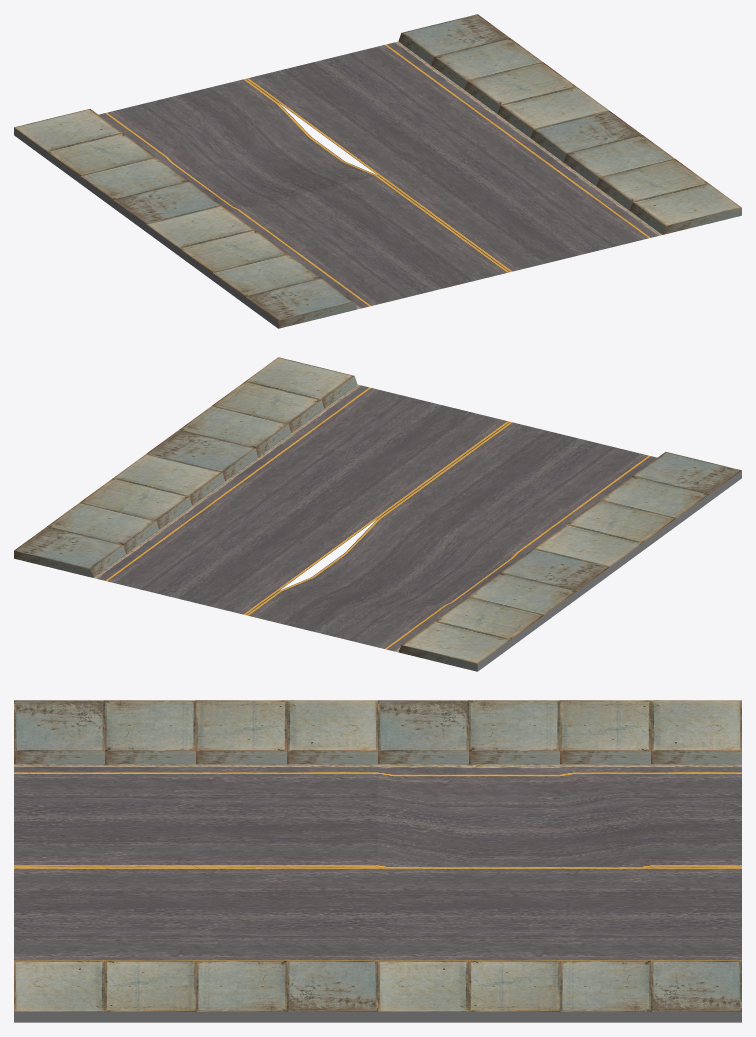
File: hole.FBX
3 renders of one model, top to bottom at view 1: azimuth 30°, elevation 25°; view 2: azimuth 150°, elevation 25°; view 3: azimuth 270°, elevation 25°, orthographic. The views are drawn at different scales.
Visible parts, largest first — view 1: Plane003, Plane002, Plane004, Plane001; view 2: Plane002, Plane003, Plane004, Plane001; view 3: Plane001, Plane004, Plane002, Plane003.
Part boxes in pixels (box(x1,y1,x2,y2)): Plane003: box(378, 111, 741, 271); Plane002: box(246, 14, 609, 175); Plane004: box(146, 175, 509, 328); Plane001: box(14, 79, 377, 231); Plane002: box(14, 454, 377, 614); Plane003: box(146, 357, 509, 518); Plane004: box(378, 422, 741, 574); Plane001: box(246, 518, 609, 671); Plane001: box(378, 700, 741, 866); Plane004: box(14, 700, 377, 866); Plane002: box(378, 867, 741, 1022); Plane003: box(14, 867, 377, 1022).
Bounding box in the file's own units: 608 × 22.67 × 600.
